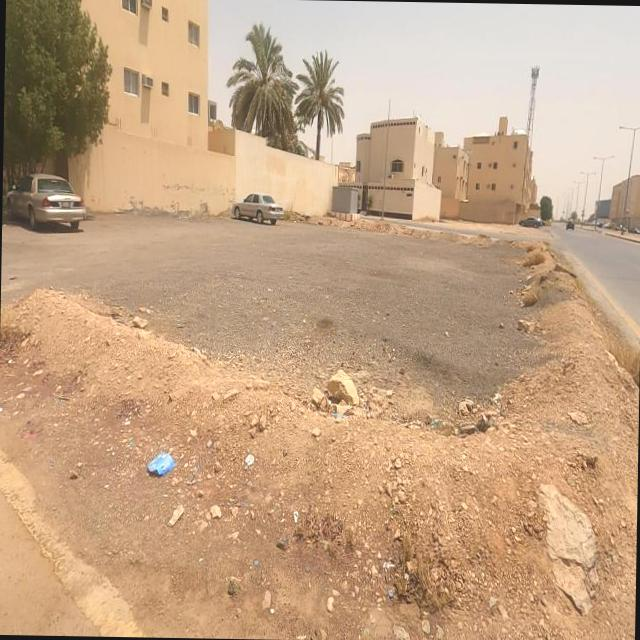debris: (119, 400, 208, 526)
